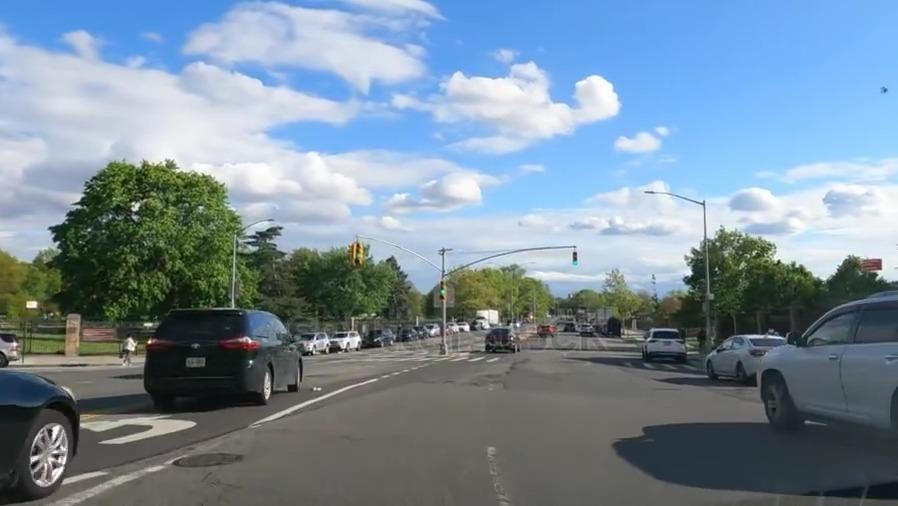car: (761, 311, 898, 432), (140, 312, 311, 403), (1, 356, 87, 495), (701, 326, 775, 379), (645, 323, 685, 361), (298, 328, 332, 357), (484, 328, 522, 353), (0, 325, 23, 365), (329, 329, 361, 354), (364, 329, 394, 350), (399, 326, 414, 343), (414, 326, 425, 340)
manhole: (171, 447, 254, 475)
person: (116, 330, 138, 372), (765, 321, 782, 337)
traffic light: (347, 238, 368, 269), (437, 276, 451, 305), (568, 246, 582, 270)
wheel: (23, 411, 75, 481), (764, 375, 794, 422), (256, 362, 277, 398)
